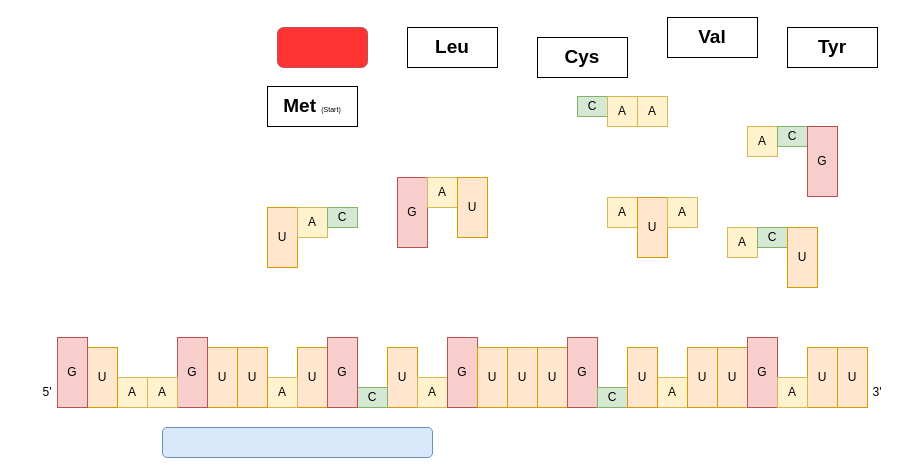
Some shapes in this 924 by 475 pixel diagram are drawn without their labels. The shapes that lost their labels are listed below. From the top down, each one's centre as x and y in pixels, then its label:
At [322,47]: "Stopp".
At [297,442]: "Ribosom".
